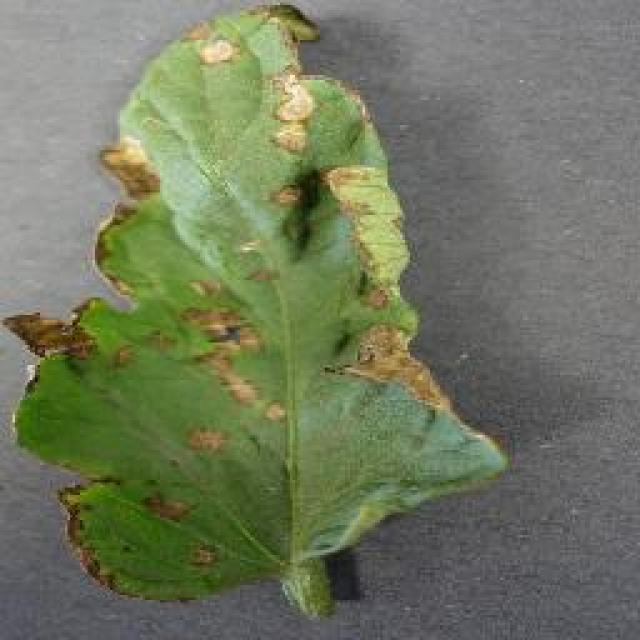Tomato___Bacterial_spot: (0, 2, 509, 631)
